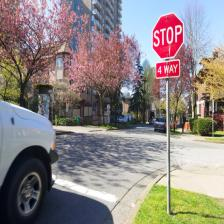Stop-sign: (150, 10, 186, 58)
